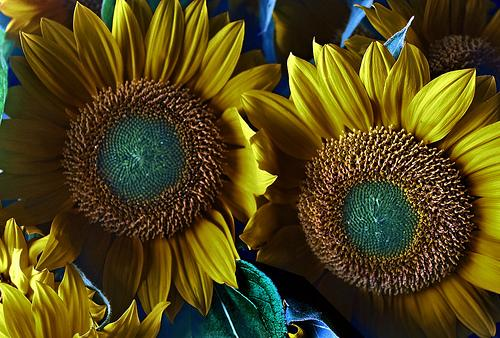sunflower: (2, 0, 264, 314), (244, 40, 500, 338)
